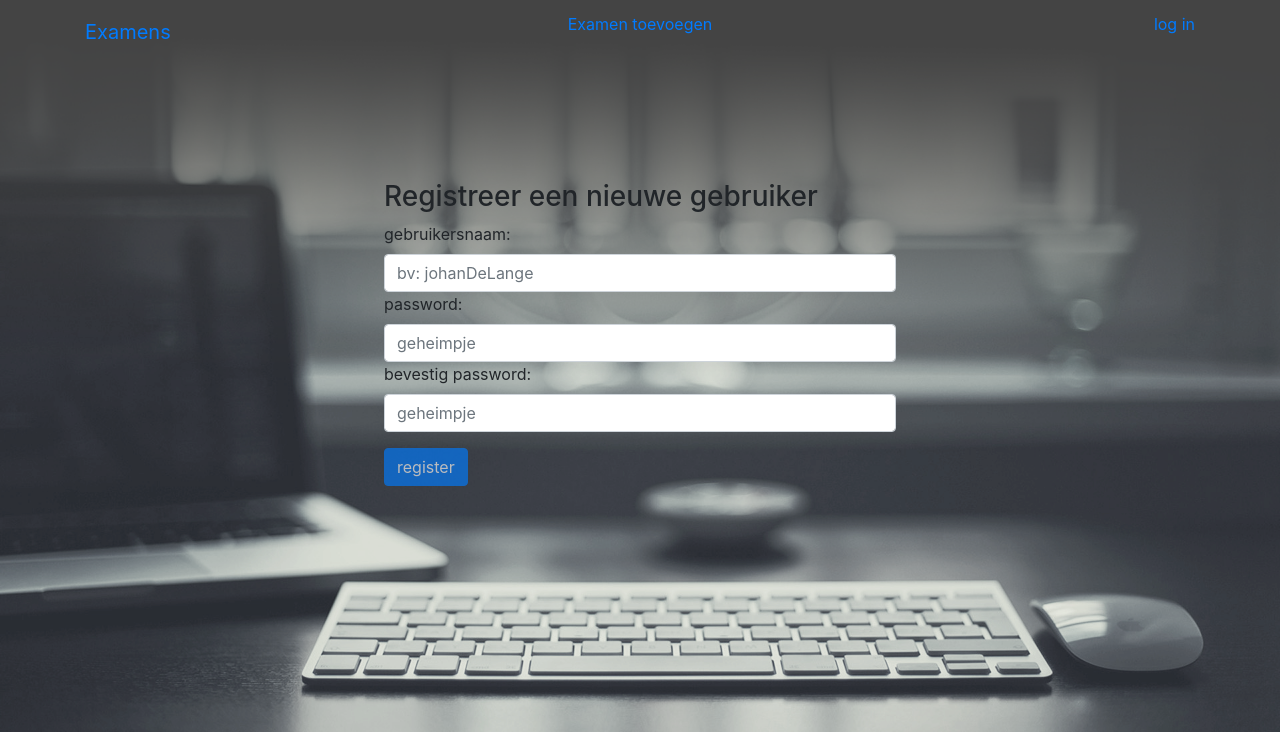
Test: Register › should test that all the pwds should be the same
Type "Kwinten" into the field with test id "username" at (640,273), box 384,254 -> 896,292
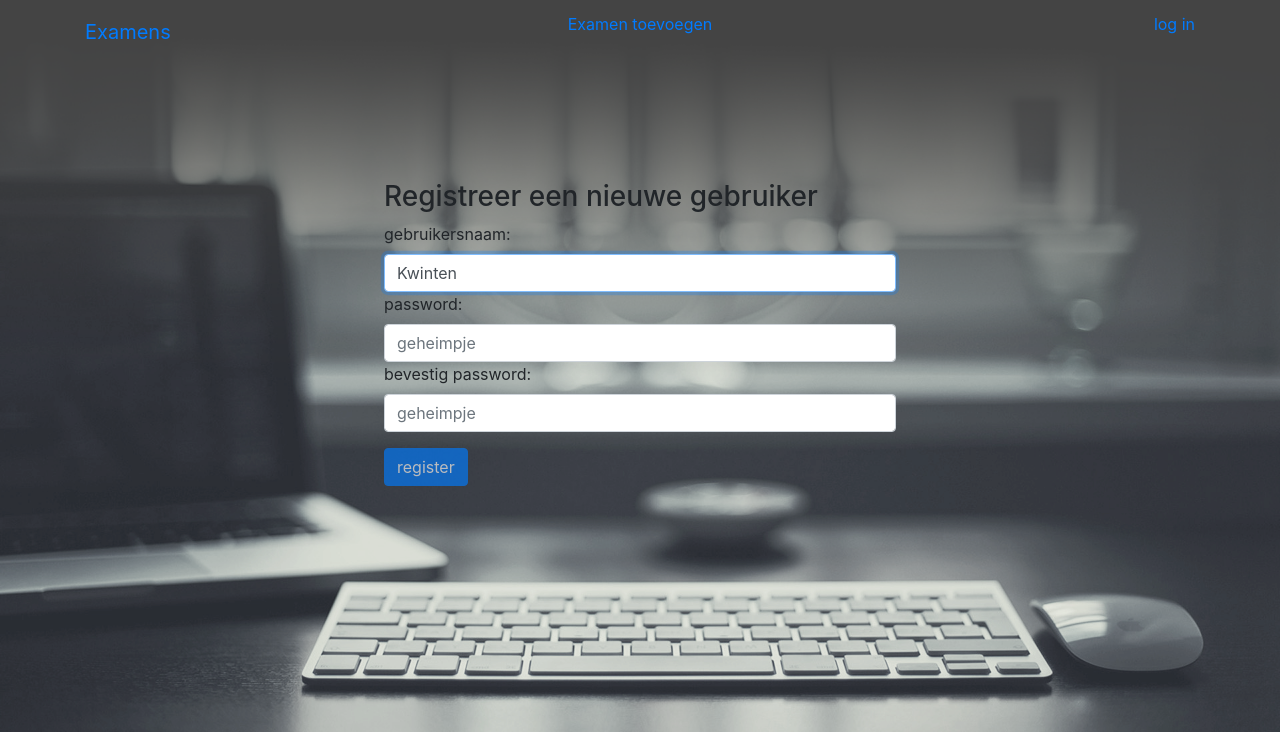
Type "testtesttest" into the password field with test id "password" at (640,343), box 384,324 -> 896,362
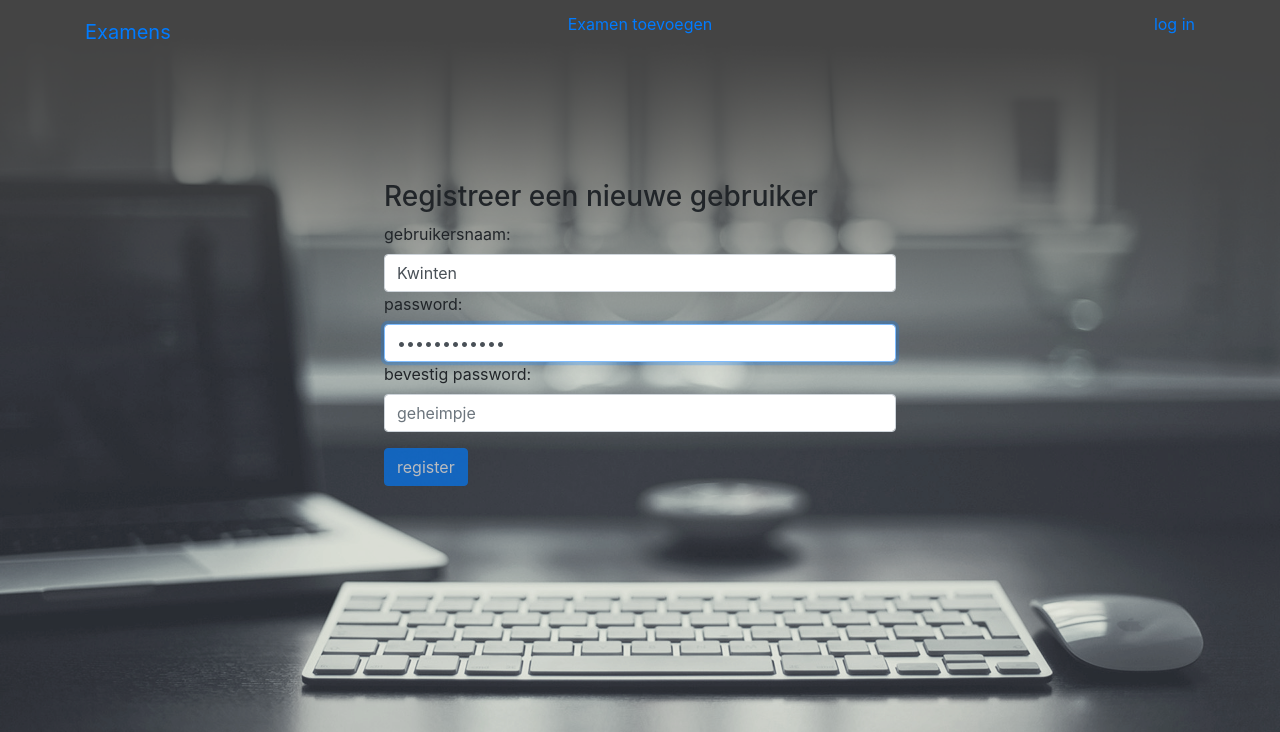
Type "whatever" into the password field with test id "confirmPassword" at (640,413), box 384,394 -> 896,432
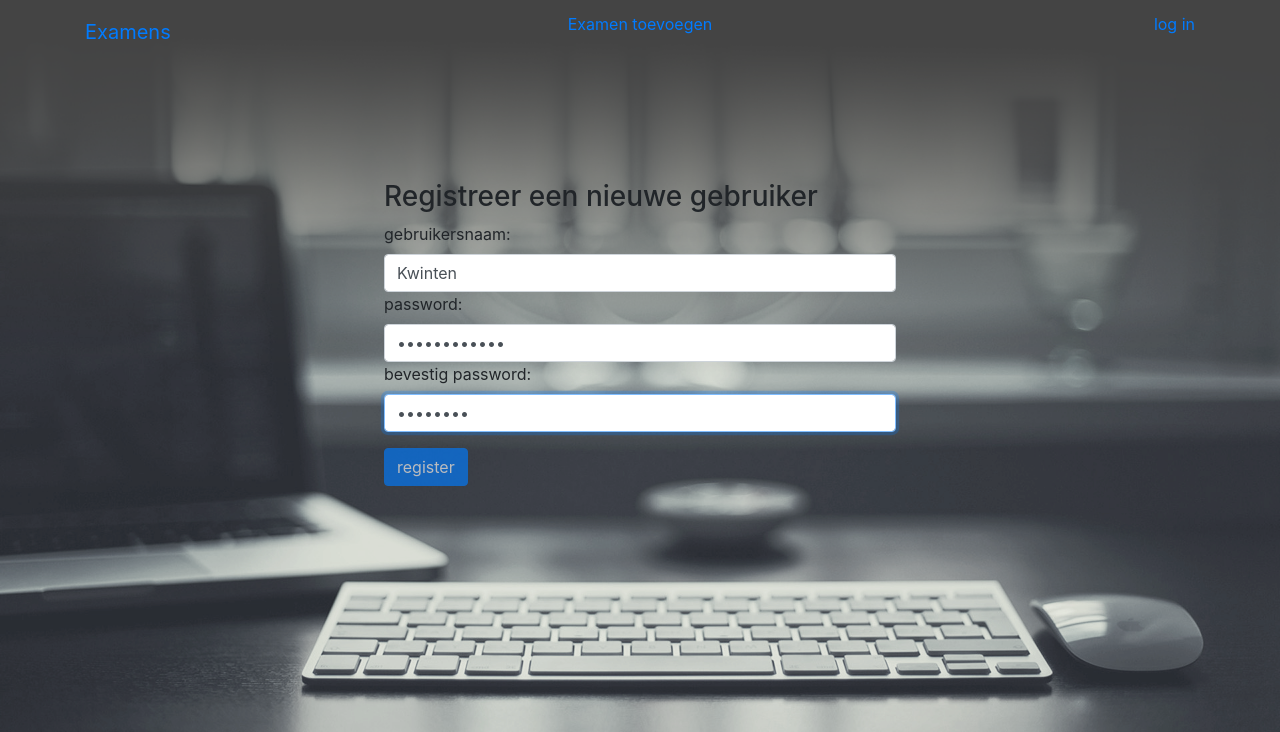
small trick to leave focus so the error message can popup
Type "P" into the field with test id "username" at (640,273), box 384,254 -> 896,292
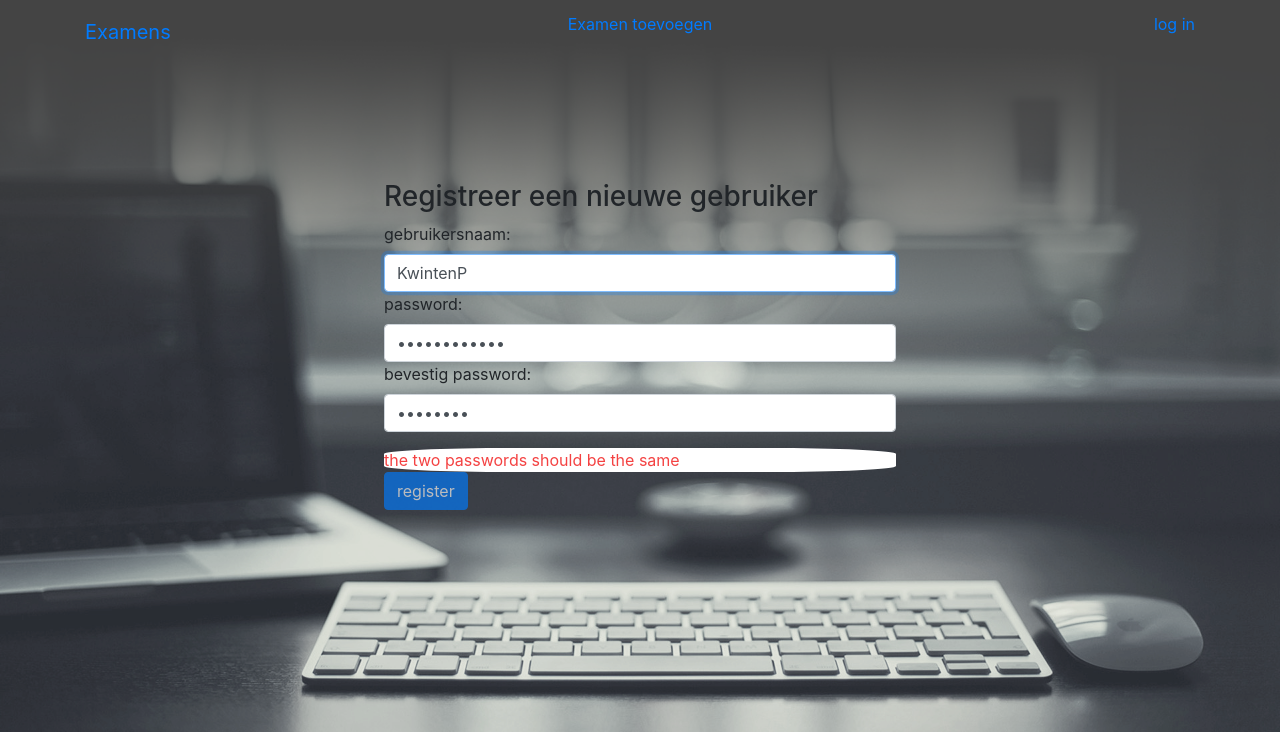
Expected: the button with test id "registerBtn" is disabled, 384,472 -> 468,510
Expected: the text "the two passwords should be the same" is shown, 384,448 -> 896,472
